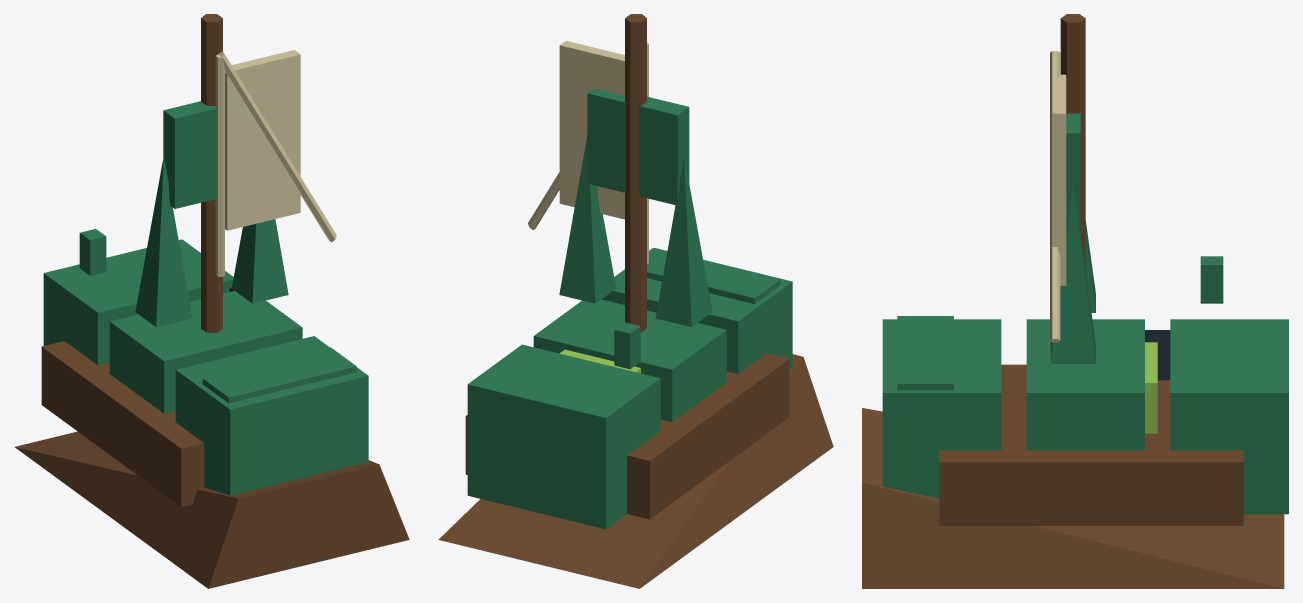
Rendered from trade-ship.obj.
3 views of the same model, side by side, from view 1: azimuth 30°, elevation 25°; view 2: azimuth 150°, elevation 25°; view 3: azimuth 270°, elevation 25° (orthographic). The views are drawn at different scales.
Parts seen in each view (by area): view 1: ship; view 2: ship; view 3: ship.
Part boxes in pixels (<box>): ship: <box>15,14,409,588</box>; ship: <box>438,14,833,588</box>; ship: <box>862,14,1288,588</box>.
Bounding box in the file's own units: 1.08 × 2.26 × 1.69.
